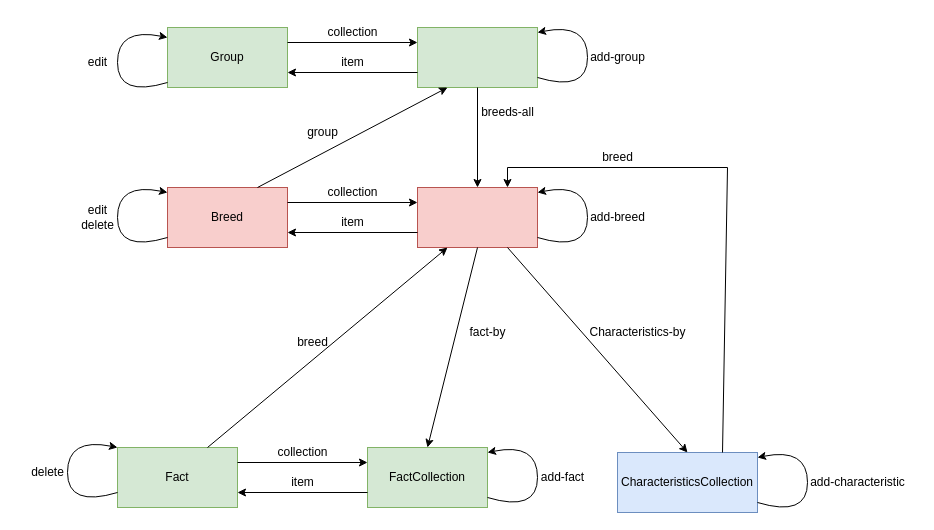
Image size: 934x530. Some labels were removed from this diagram. Each missing label, with the centre of its shape:
"BreedCollection" goes at (477,217).
"GroupCollection" goes at (477,57).
